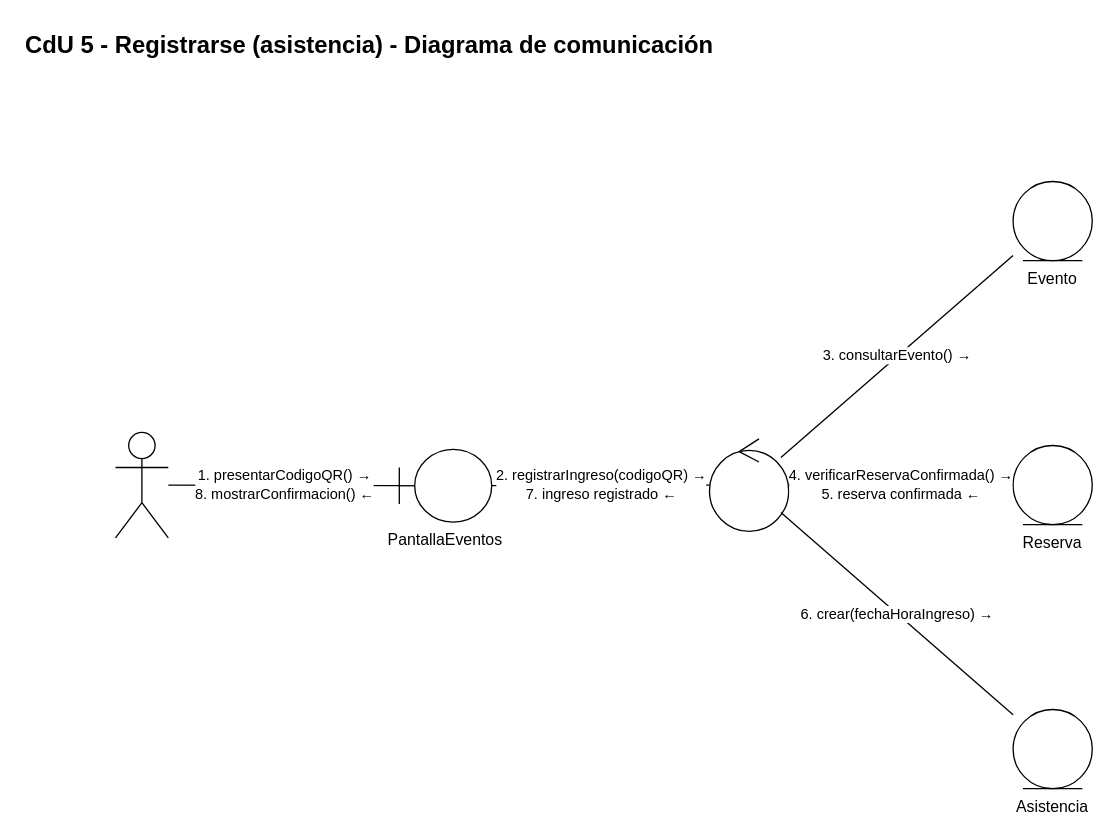
Some shapes in this 1115 by 838 pixel diagram are drawn without their labels. The shapes that lost their labels are listed below. From the top down, each one's box as (x1, y1, x2, y2) in pixels, then its label:
(114, 431, 168, 538): Estudiante
(708, 438, 789, 531): GestiónAsistencia
